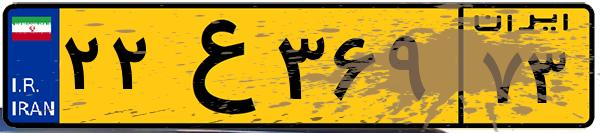2: (57, 26, 110, 100), (110, 28, 158, 98)
3: (270, 28, 330, 110), (525, 38, 570, 115)
6: (330, 28, 385, 110)
7: (475, 38, 525, 113)
9: (385, 28, 445, 110)
ع: (158, 12, 270, 120)
